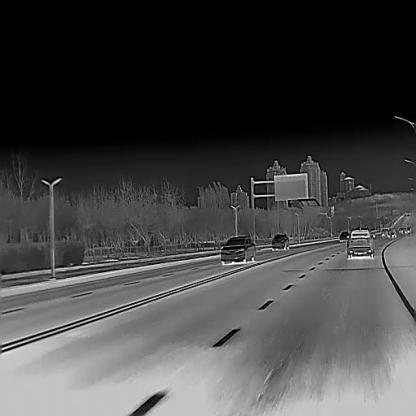car: (220, 235, 255, 263), (347, 226, 375, 257), (271, 233, 289, 249), (339, 231, 349, 241), (388, 228, 397, 237), (381, 228, 388, 236)
